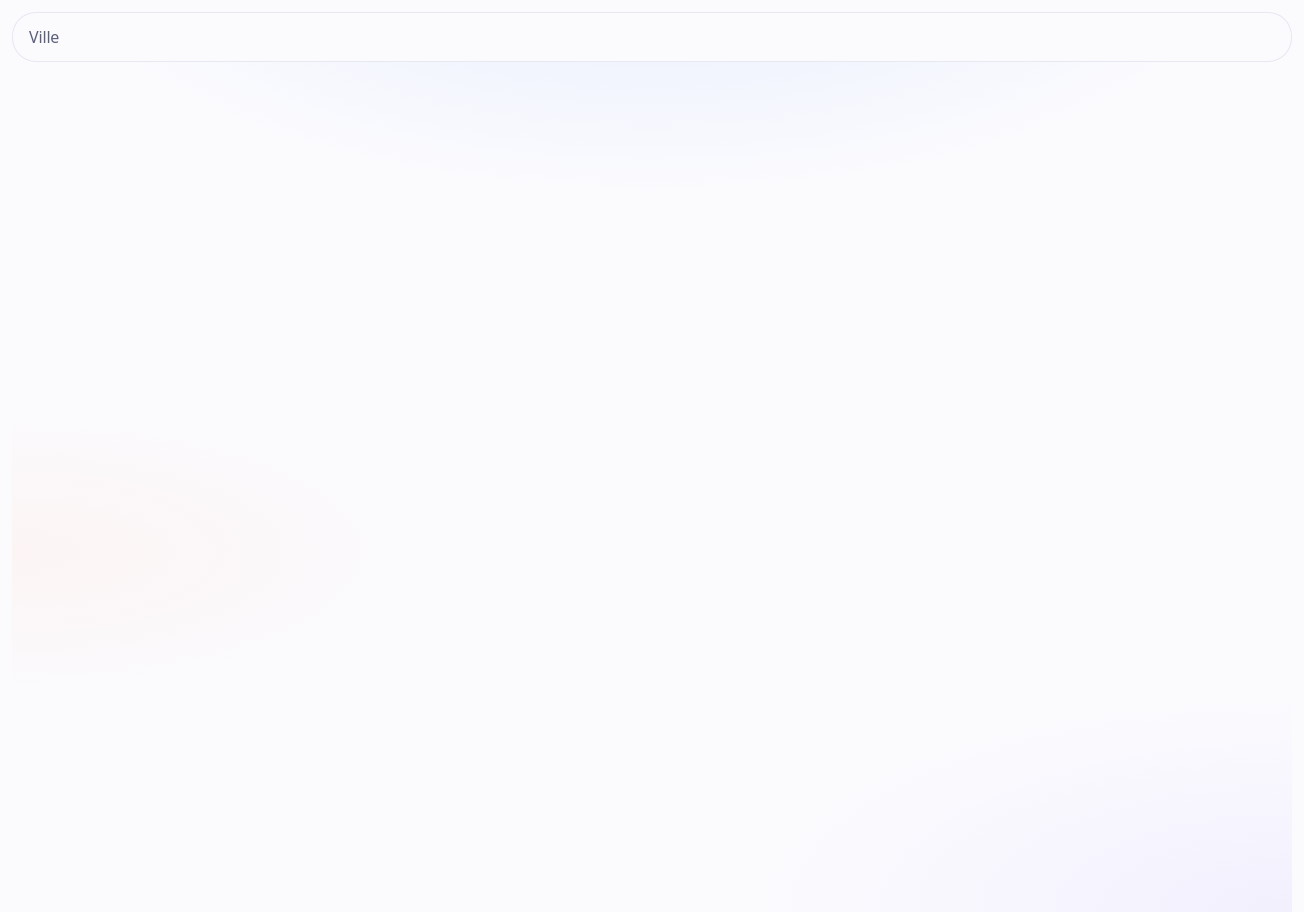
it: PlaceAutocompleteInput — autocompletion › debounces and renders suggestions in a listbox
In the dropdown: (652, 37) left=12, top=12, right=1292, bottom=62, type "par"
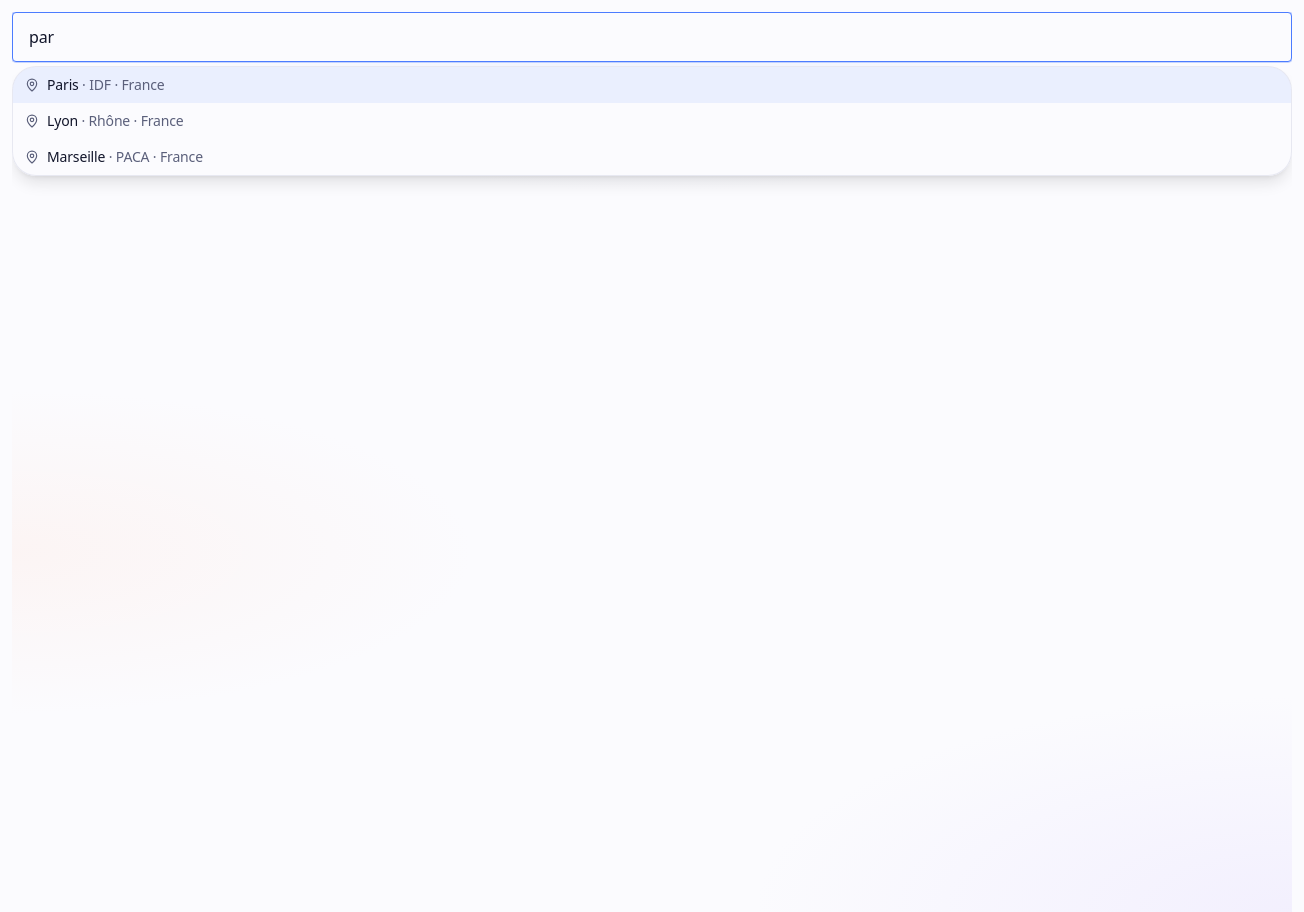
Now the list is shown, box left=12, top=66, right=1292, bottom=176
Now the text "Paris" is shown, box left=47, top=75, right=79, bottom=94
Now the text "Lyon" is shown, box left=47, top=111, right=78, bottom=130
